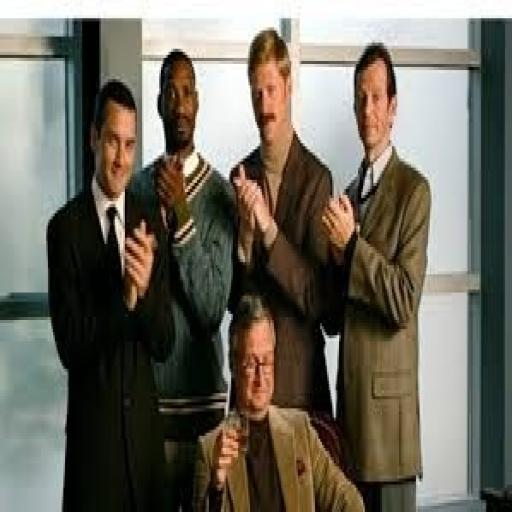clapping: (44, 76, 174, 509), (320, 40, 432, 509), (111, 50, 243, 434), (226, 24, 334, 420)
